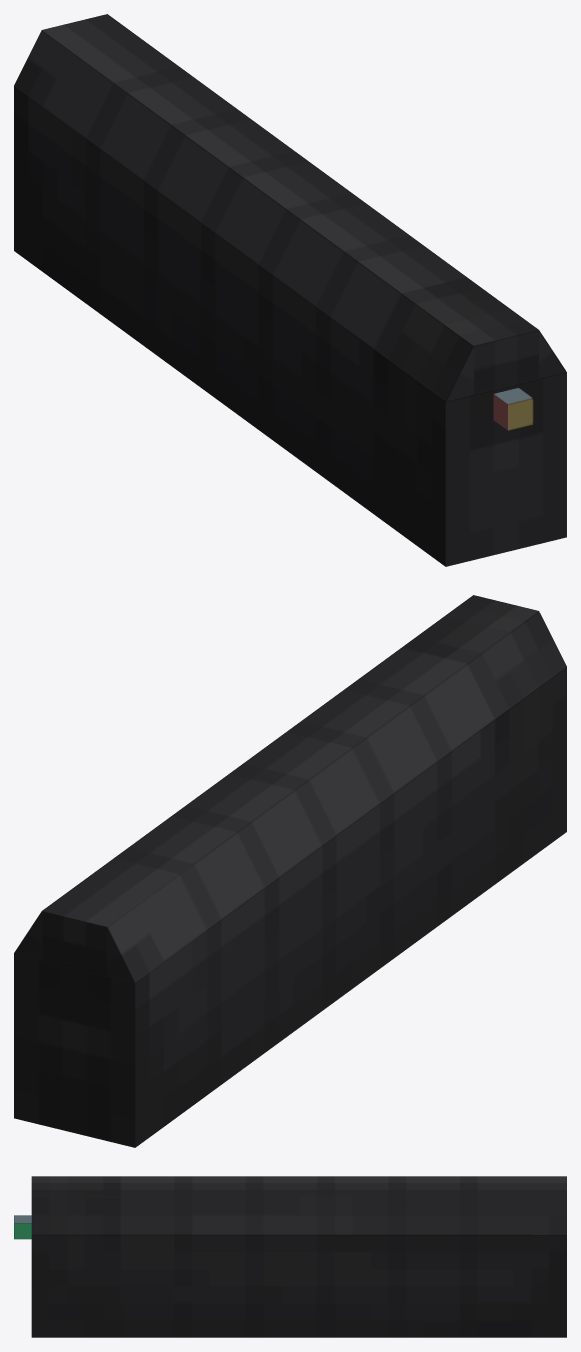
File: sg suppressor.obj
3 renders of one model, top to bottom at view 1: azimuth 30°, elevation 25°; view 2: azimuth 150°, elevation 25°; view 3: azimuth 270°, elevation 25°, orthographic. The views are drawn at different scales.
Parts seen in each view (by area): view 1: silencer_4, _ca_suppressor_1; view 2: silencer_4; view 3: silencer_4, _ca_suppressor_1.
Part boxes in pixels (x1,y1,x2,y2): silencer_4: (14,14,566,566); _ca_suppressor_1: (493,388,533,430); silencer_4: (14,595,566,1147); silencer_4: (31,1176,566,1337); _ca_suppressor_1: (14,1215,31,1239).
Bounding box in the file's own units: 0.3 × 0.5063 × 1.91.
